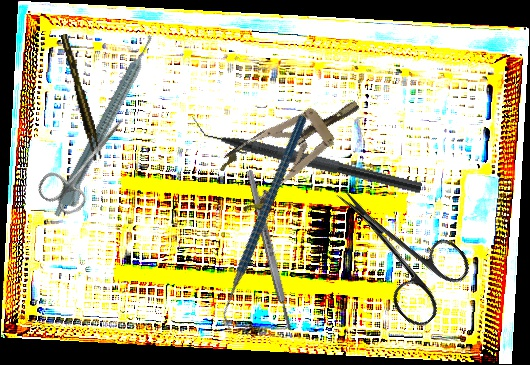Chopper: (160, 113, 371, 335), (186, 112, 427, 194)
Handpiece: (50, 33, 165, 223)
Iris Scissors: (308, 161, 481, 333), (33, 102, 141, 221)
Scalpel Handle: (245, 169, 294, 331)
Speculum: (212, 77, 377, 219)
Tissue Forceps: (60, 32, 103, 162)
